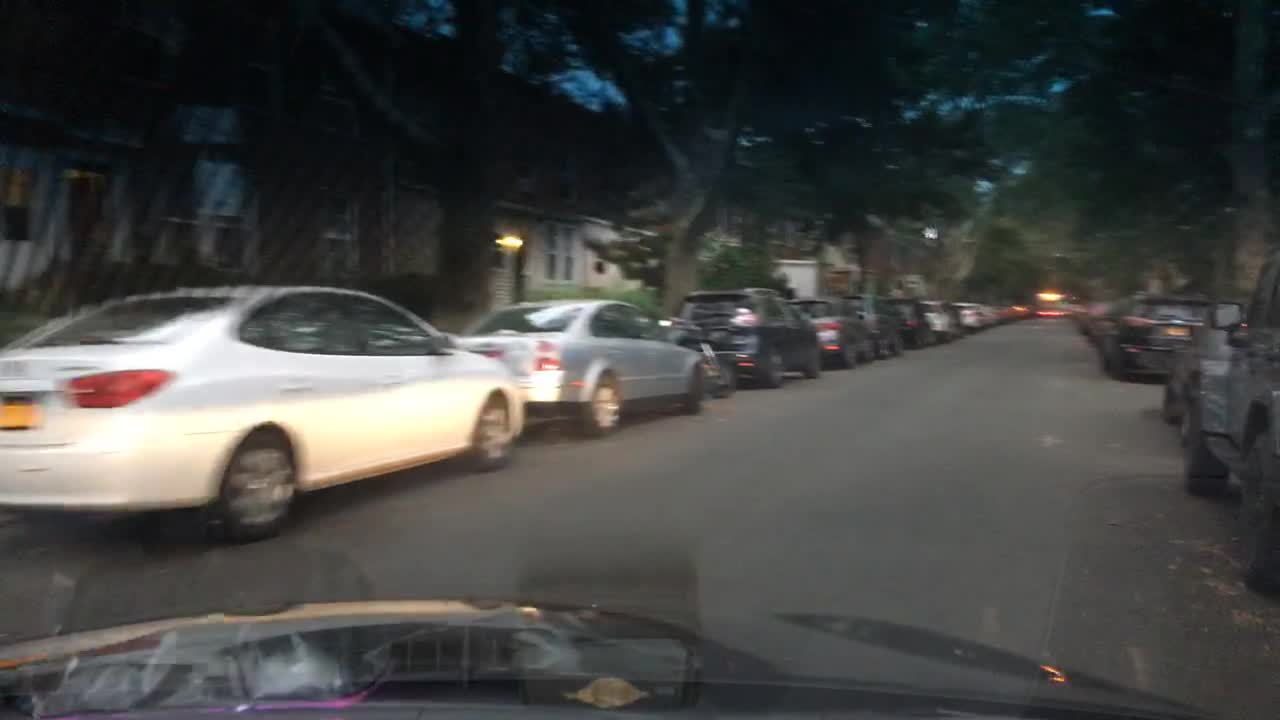car: (0, 281, 525, 543), (460, 295, 705, 439), (1181, 244, 1278, 599), (675, 285, 824, 391), (1160, 301, 1255, 426), (1099, 292, 1214, 384), (780, 294, 877, 372), (840, 295, 903, 360), (886, 293, 931, 352), (910, 298, 963, 346), (1086, 300, 1130, 341), (1076, 294, 1106, 332), (1033, 288, 1068, 320), (954, 301, 985, 335), (994, 305, 1016, 324), (1013, 302, 1031, 321), (987, 305, 998, 328)
motor: (666, 314, 738, 399)
